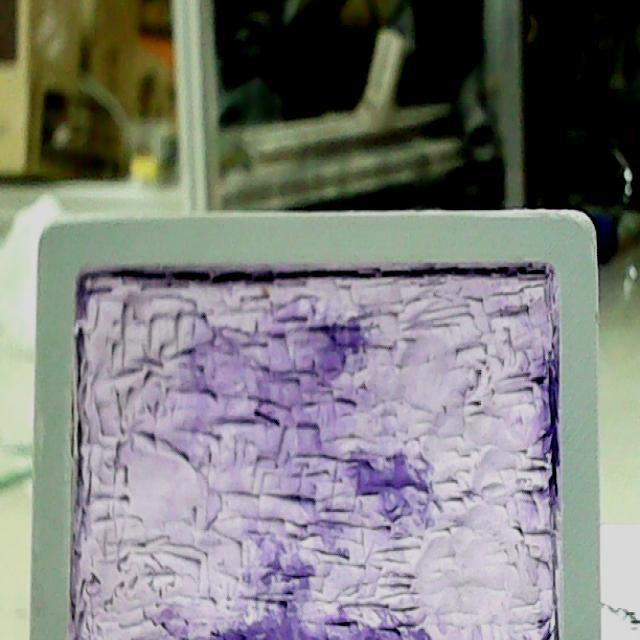block: (24, 199, 603, 640)
